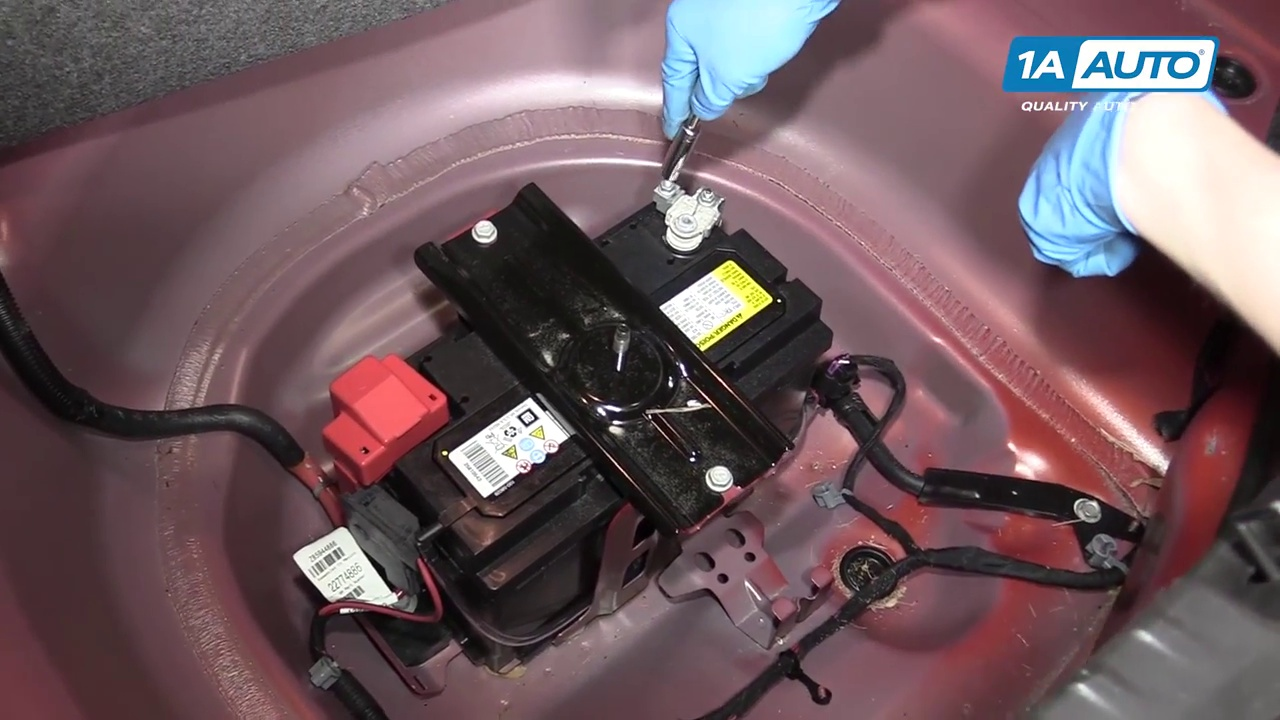battery: (347, 188, 825, 568)
neg_connected: (622, 177, 744, 277)
pos_connected: (309, 346, 444, 469)
